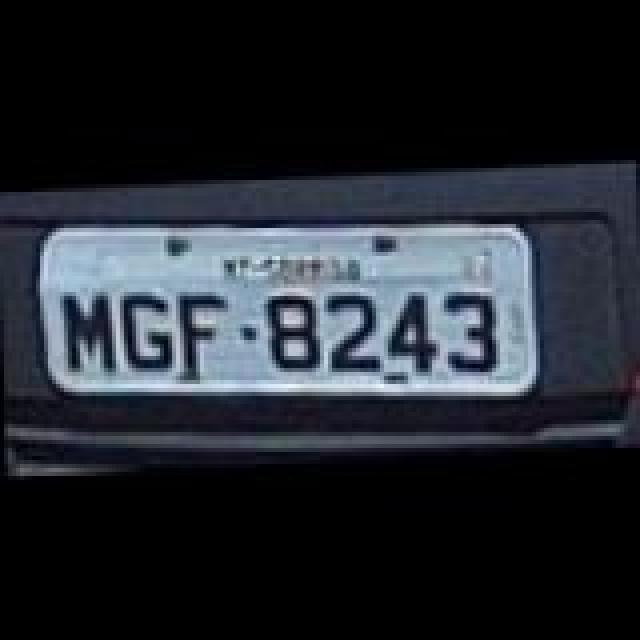2: (320, 288, 384, 372)
3: (440, 284, 504, 372)
4: (378, 288, 438, 368)
8: (258, 286, 326, 370)
F: (174, 290, 234, 370)
G: (116, 286, 180, 370)
M: (58, 284, 118, 368)
